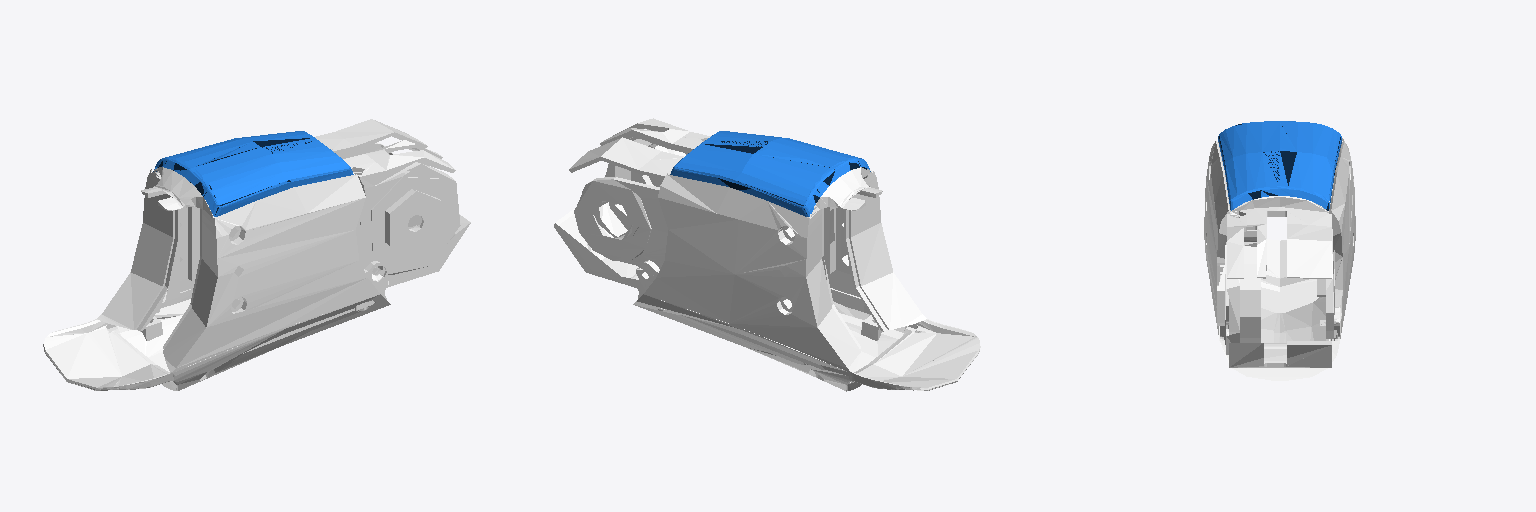
File: hit-hand-2-finger-phaprox.obj
3 views of the same model, side by side, from view 1: azimuth 30°, elevation 25°; view 2: azimuth 150°, elevation 25°; view 3: azimuth 270°, elevation 25° (orthographic).
Visible parts, largest first — view 1: IndexedTriangleStripSet_14_IndexedTriangleStripSet_15, IndexedTriangleStripSet_10_IndexedTriangleStripSet_11, IndexedTriangleStripSet_2_IndexedTriangleStripSet_3, IndexedTriangleStripSet_12_IndexedTriangleStripSet_13, IndexedTriangleStripSet_6_IndexedTriangleStripSet_7, IndexedTriangleStripSet_8_IndexedTriangleStripSet_9; view 2: IndexedTriangleStripSet_14_IndexedTriangleStripSet_15, IndexedTriangleStripSet_10_IndexedTriangleStripSet_11, IndexedTriangleStripSet_6_IndexedTriangleStripSet_7, IndexedTriangleStripSet_12_IndexedTriangleStripSet_13, IndexedTriangleStripSet_2_IndexedTriangleStripSet_3, IndexedTriangleStripSet_8_IndexedTriangleStripSet_9, IndexedTriangleStripSet_IndexedTriangleStripSet_1, IndexedTriangleStripSet_4_IndexedTriangleStripSet_5; view 3: IndexedTriangleStripSet_14_IndexedTriangleStripSet_15, IndexedTriangleStripSet_12_IndexedTriangleStripSet_13, IndexedTriangleStripSet_10_IndexedTriangleStripSet_11, IndexedTriangleStripSet_8_IndexedTriangleStripSet_9, IndexedTriangleStripSet_2_IndexedTriangleStripSet_3, IndexedTriangleStripSet_6_IndexedTriangleStripSet_7, IndexedTriangleStripSet_4_IndexedTriangleStripSet_5.
Part boxes in pixels (bbox=[...]): IndexedTriangleStripSet_14_IndexedTriangleStripSet_15: bbox=[43, 120, 470, 390]; IndexedTriangleStripSet_10_IndexedTriangleStripSet_11: bbox=[44, 119, 459, 390]; IndexedTriangleStripSet_2_IndexedTriangleStripSet_3: bbox=[46, 139, 450, 389]; IndexedTriangleStripSet_12_IndexedTriangleStripSet_13: bbox=[153, 131, 352, 216]; IndexedTriangleStripSet_6_IndexedTriangleStripSet_7: bbox=[47, 132, 470, 388]; IndexedTriangleStripSet_8_IndexedTriangleStripSet_9: bbox=[154, 135, 353, 216]; IndexedTriangleStripSet_14_IndexedTriangleStripSet_15: bbox=[555, 118, 979, 391]; IndexedTriangleStripSet_10_IndexedTriangleStripSet_11: bbox=[554, 130, 978, 390]; IndexedTriangleStripSet_6_IndexedTriangleStripSet_7: bbox=[558, 124, 971, 389]; IndexedTriangleStripSet_12_IndexedTriangleStripSet_13: bbox=[670, 131, 870, 216]; IndexedTriangleStripSet_2_IndexedTriangleStripSet_3: bbox=[601, 151, 980, 390]; IndexedTriangleStripSet_8_IndexedTriangleStripSet_9: bbox=[672, 131, 868, 216]; IndexedTriangleStripSet_IndexedTriangleStripSet_1: bbox=[705, 141, 866, 213]; IndexedTriangleStripSet_4_IndexedTriangleStripSet_5: bbox=[673, 144, 864, 213]; IndexedTriangleStripSet_14_IndexedTriangleStripSet_15: bbox=[1204, 139, 1355, 376]; IndexedTriangleStripSet_12_IndexedTriangleStripSet_13: bbox=[1218, 121, 1341, 208]; IndexedTriangleStripSet_10_IndexedTriangleStripSet_11: bbox=[1204, 141, 1353, 380]; IndexedTriangleStripSet_8_IndexedTriangleStripSet_9: bbox=[1219, 121, 1334, 210]; IndexedTriangleStripSet_2_IndexedTriangleStripSet_3: bbox=[1204, 152, 1355, 367]; IndexedTriangleStripSet_6_IndexedTriangleStripSet_7: bbox=[1205, 138, 1355, 380]; IndexedTriangleStripSet_4_IndexedTriangleStripSet_5: bbox=[1219, 123, 1336, 209].
Bounding box in the file's own units: 0.0689 × 0.0374 × 0.0239.